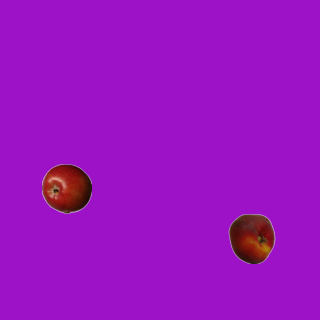Apple Braeburn: (41, 163, 91, 213)
Nectarine Flat: (226, 213, 276, 263)
